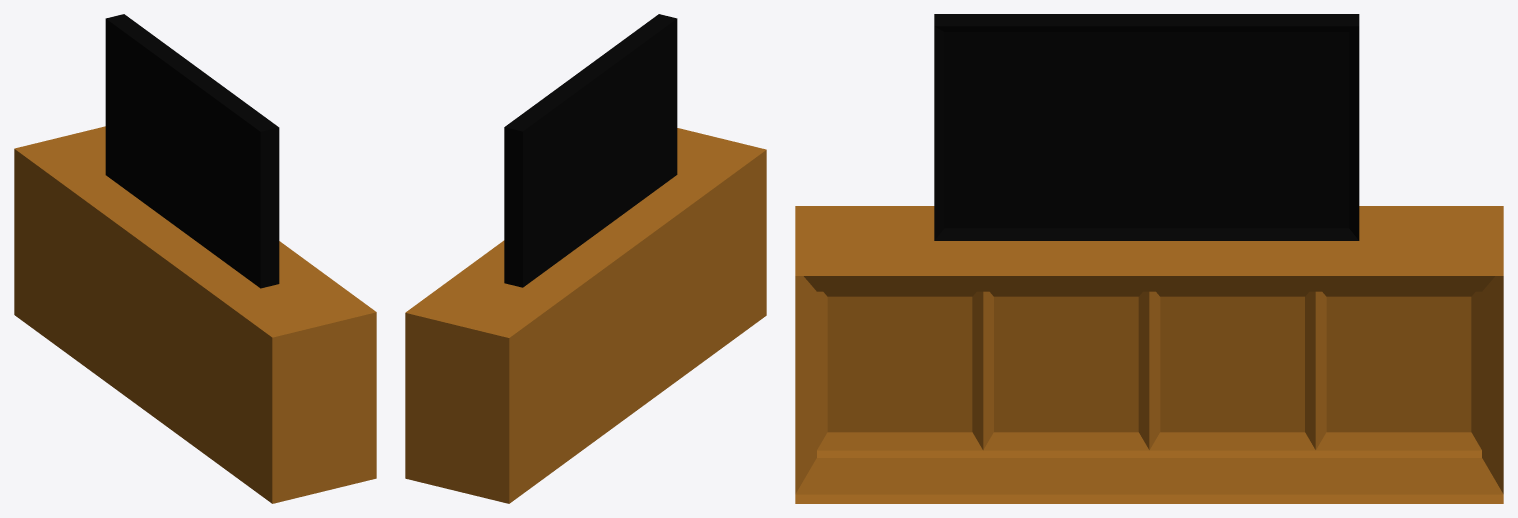
3 views of the same model, side by side, from view 1: azimuth 30°, elevation 25°; view 2: azimuth 150°, elevation 25°; view 3: azimuth 270°, elevation 25° (orthographic). The views are drawn at different scales.
Visible parts, largest first — view 1: Cube, Cube.001; view 2: Cube, Cube.001; view 3: Cube, Cube.001.
Boxes of the visible parts, x1,y1,x2,y2 form: Cube: (14, 126, 376, 503); Cube.001: (105, 14, 279, 288); Cube: (405, 128, 766, 503); Cube.001: (504, 14, 677, 287); Cube: (795, 206, 1503, 503); Cube.001: (934, 14, 1359, 240).
Size of the model in its own units: 136 by 406 by 585.
